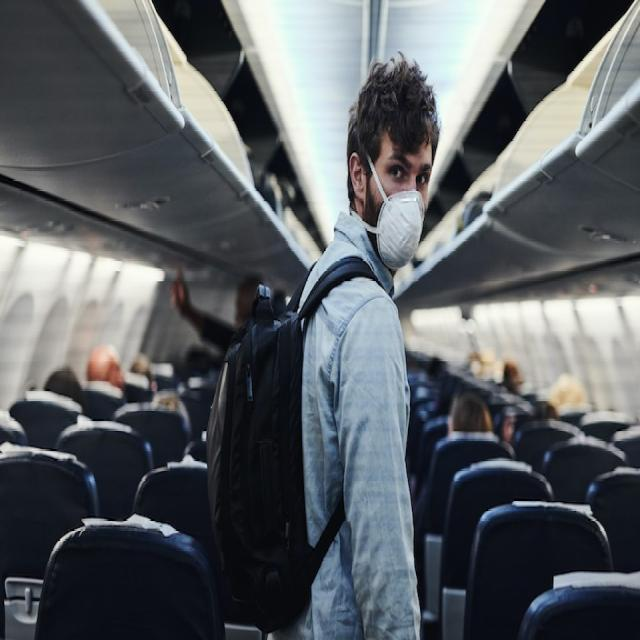mask: (365, 158, 437, 285)
